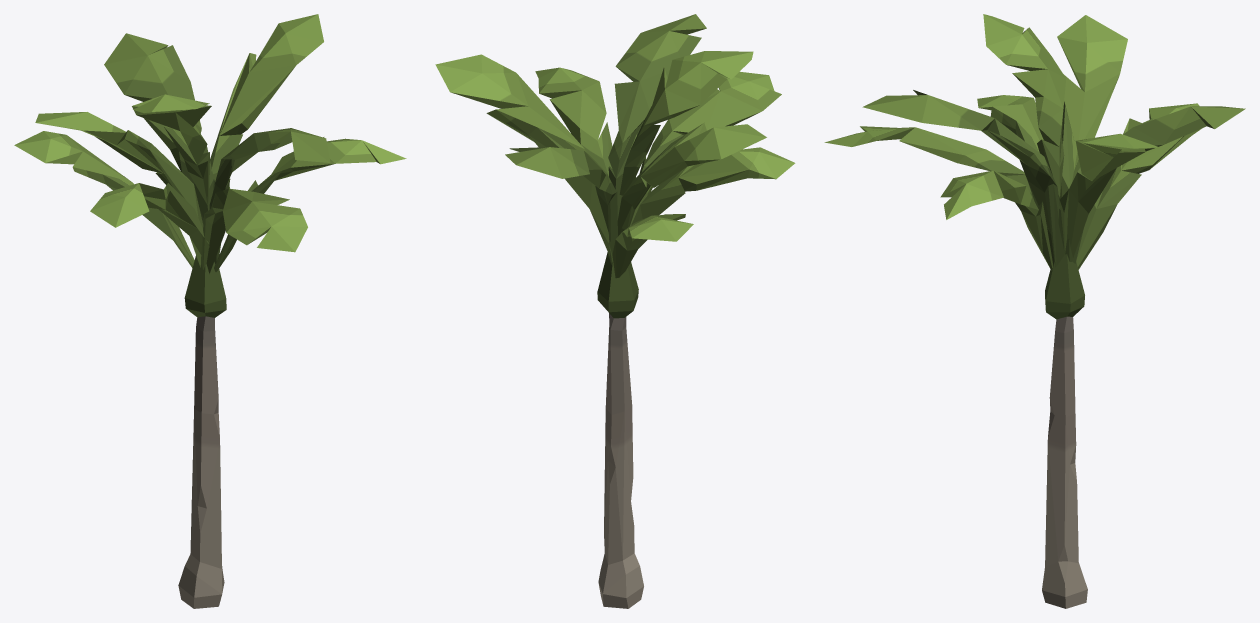
The model's file is SM_Env_Tree_03.fbx.
3 views of the same model, side by side, from view 1: azimuth 30°, elevation 25°; view 2: azimuth 150°, elevation 25°; view 3: azimuth 270°, elevation 25° (orthographic).
Parts seen in each view (by area): view 1: SM_Env_Tree_03; view 2: SM_Env_Tree_03; view 3: SM_Env_Tree_03.
Boxes of the visible parts, x1,y1,x2,y2 form: SM_Env_Tree_03: [14, 14, 406, 608]; SM_Env_Tree_03: [435, 14, 795, 608]; SM_Env_Tree_03: [824, 14, 1245, 608].
Bounding box in the file's own units: 477 × 811 × 567.
